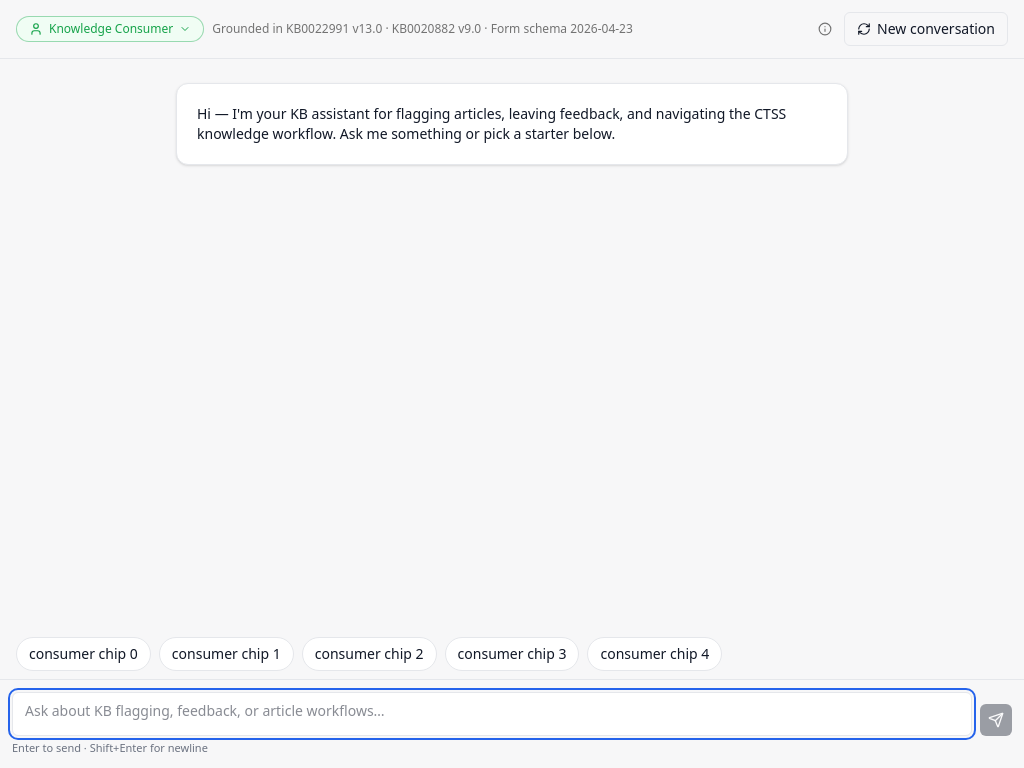
it: ChatSurface › consumer loads exactly 5 chips from /api/prompts and chip click sends first message
Click first chip → auto-submit
Click the list item "consumer chip 0".
click(83, 654)  # box [16,636,151,670]
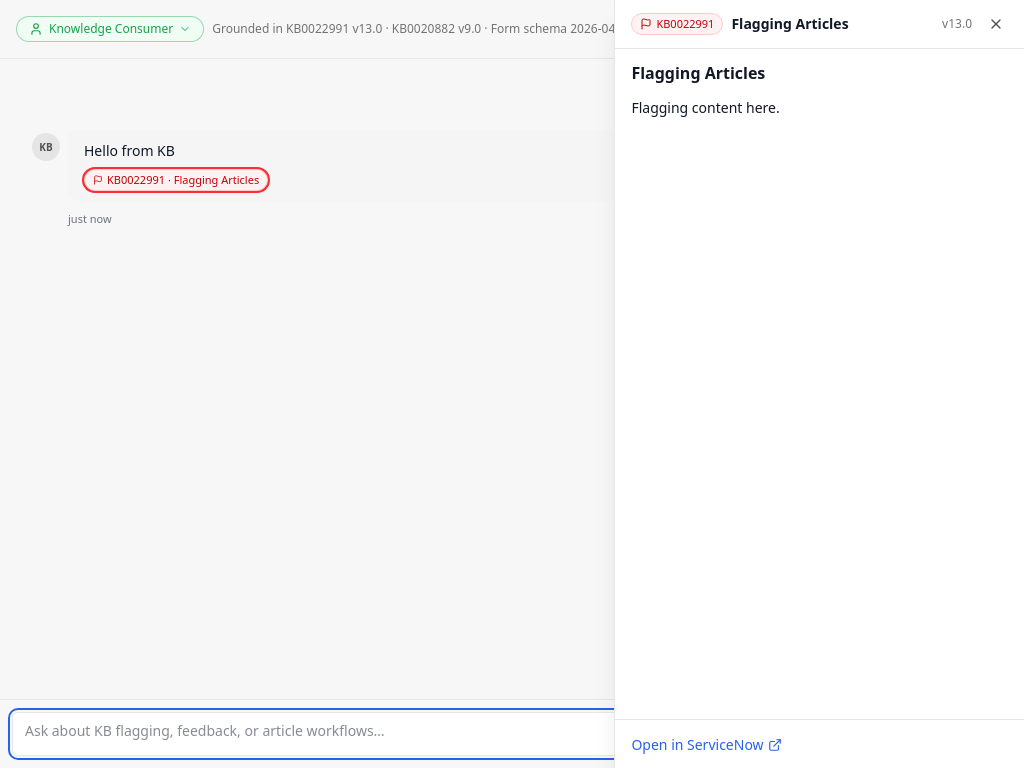
Now the text "Hello from KB" is shown, box [84,141,175,160]
Now the button with aria-label "open source KB0022991" is shown, box [84,169,268,191]
Now no list items are shown
